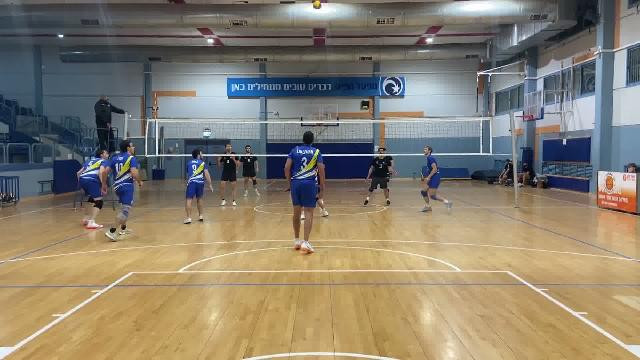ball: (311, 0, 323, 7)
